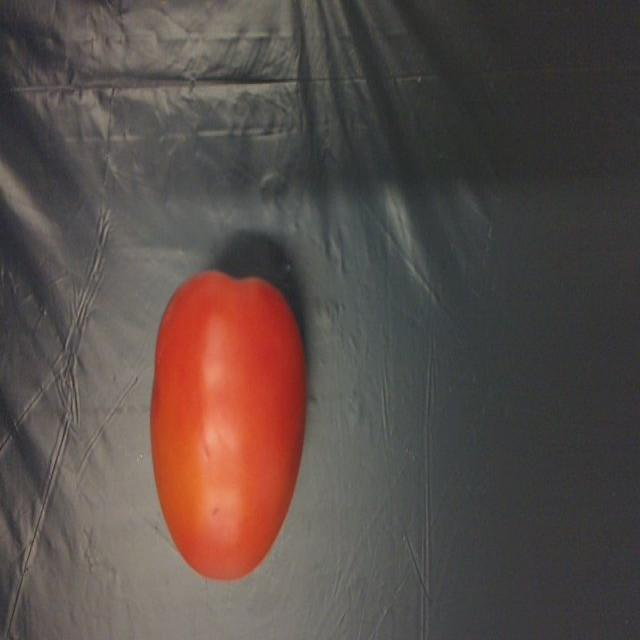kirmizi: (154, 259, 310, 592)
